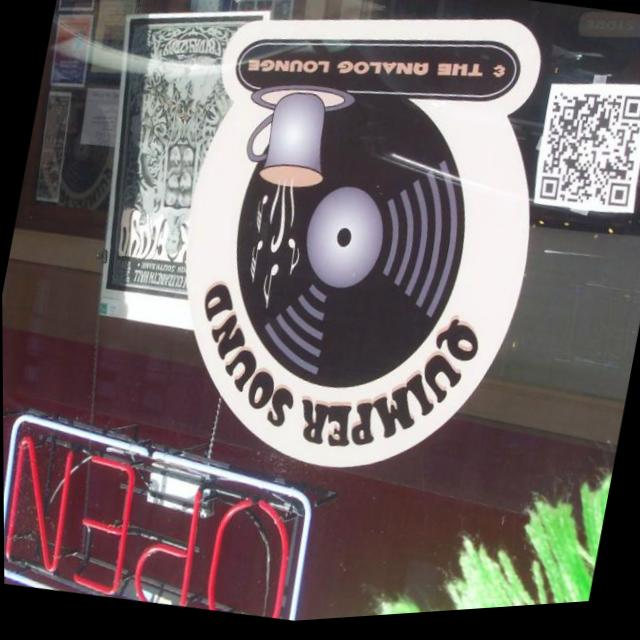qrcode: (535, 89, 640, 223)
